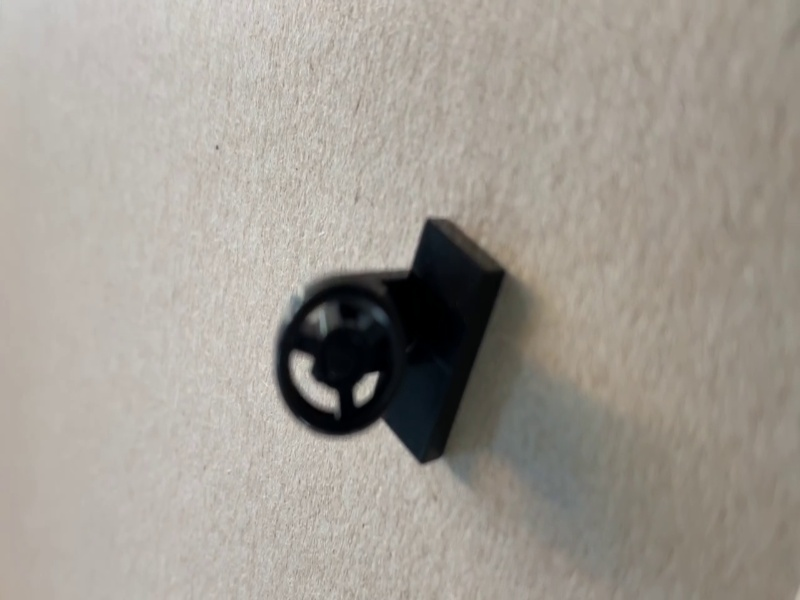steering wheel: (274, 218, 507, 468)
